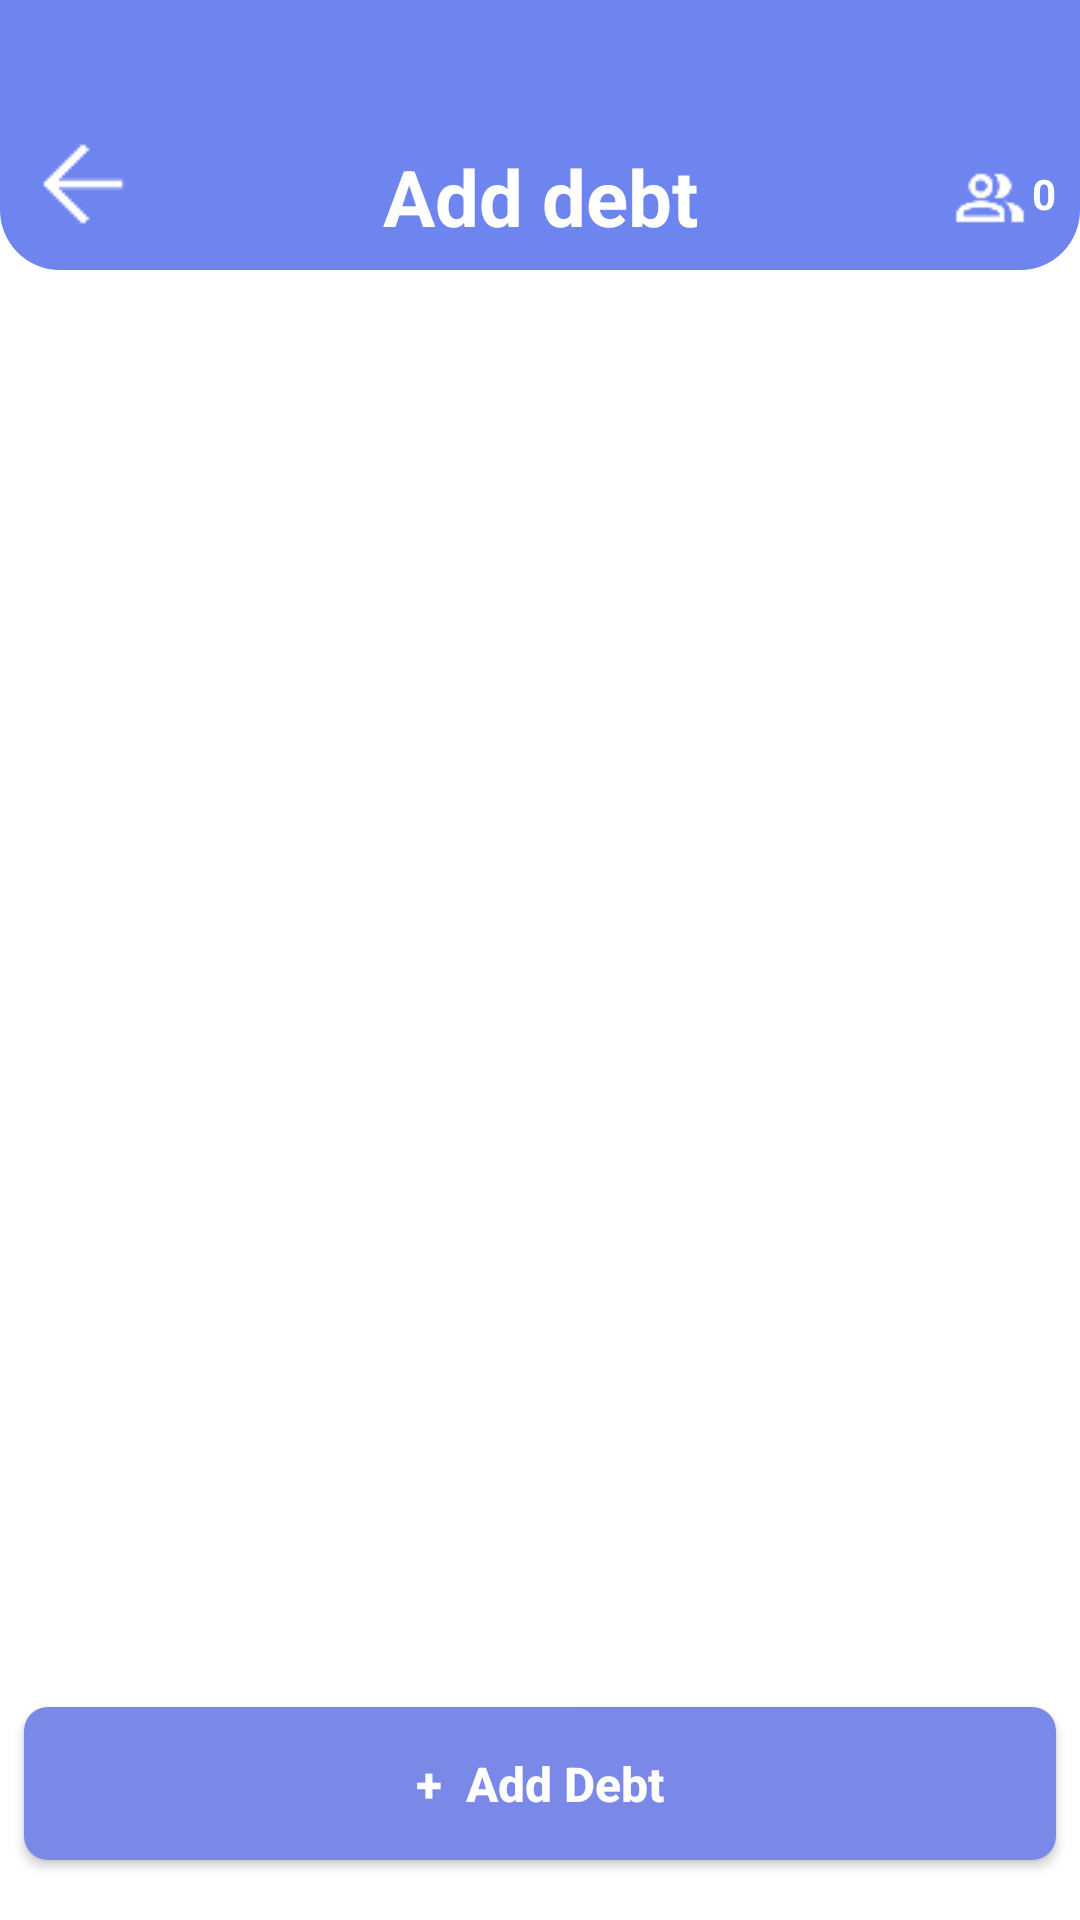

Point at icon controls on the screen. Image size 1080*1920, points as [x,y].
Back: [83,184]
Customers: [990,198]
